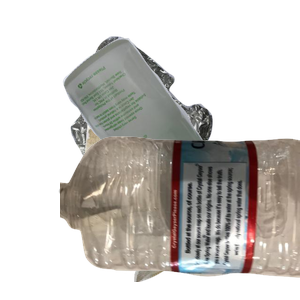glass: (60, 36, 300, 216)
metal: (68, 34, 300, 214)
plastic: (60, 134, 300, 300)
trash: (56, 120, 247, 300)
